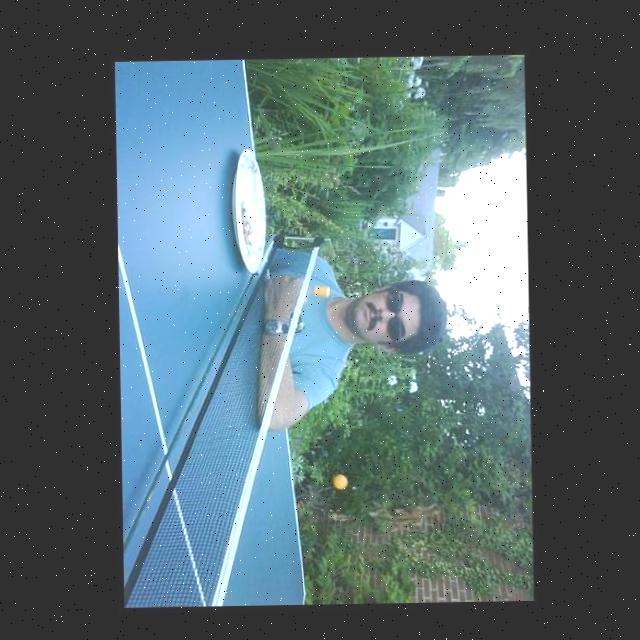ping-pong-ball: (330, 472, 348, 490)
